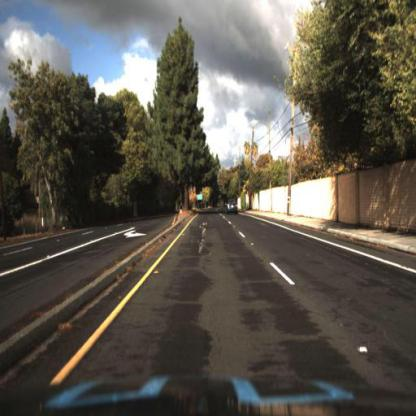car: (228, 201, 242, 215)
